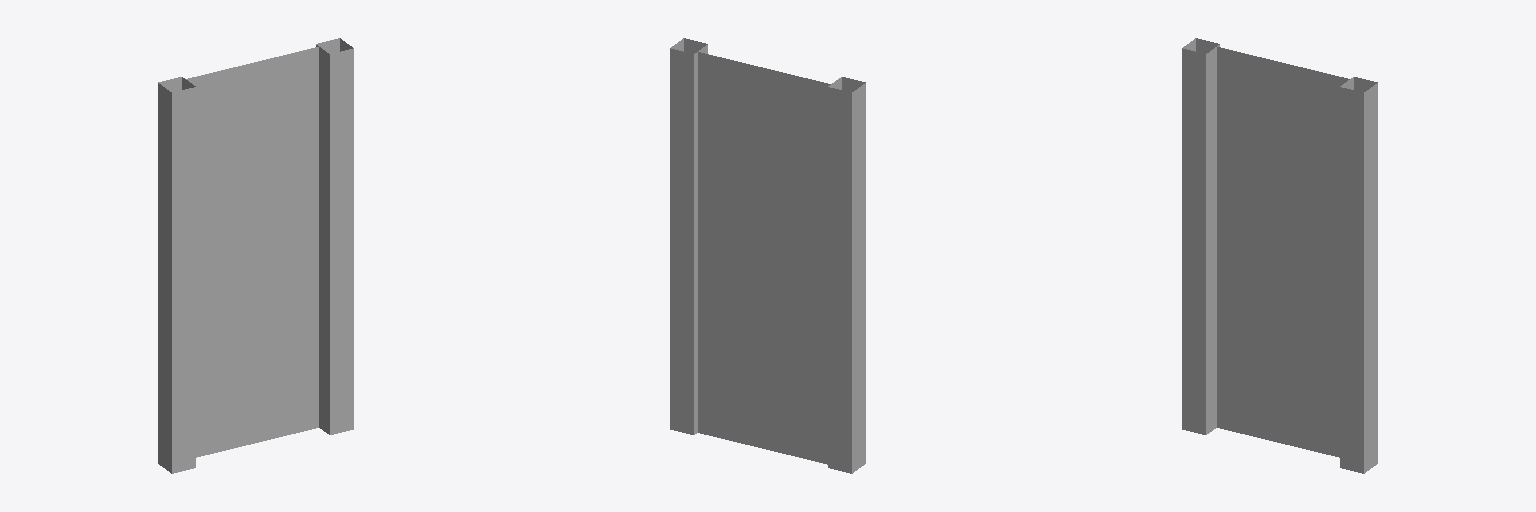
Rendered from dungeon_wall.obj.
3 views of the same model, side by side, from view 1: azimuth 30°, elevation 25°; view 2: azimuth 150°, elevation 25°; view 3: azimuth 330°, elevation 25° (orthographic).
Visible parts, largest first — view 1: wall, pillar; view 2: wall, pillar; view 3: wall, pillar.
Part boxes in pixels (x1,y1,x2,y2): wall: (186, 47, 318, 457); pillar: (158, 38, 353, 473); wall: (698, 52, 830, 464); pillar: (670, 38, 865, 473); wall: (1217, 47, 1349, 457); pillar: (1182, 38, 1377, 473).
Size of the model in its own units: 7.5 by 15 by 1.